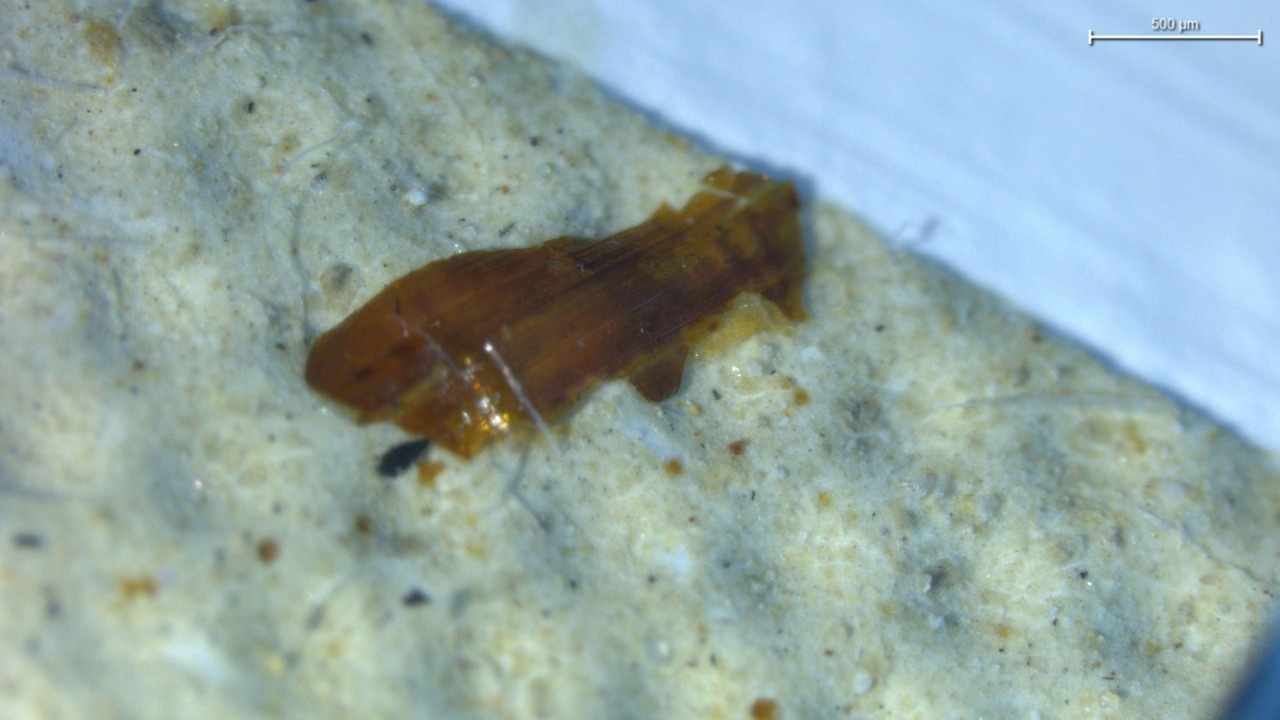microplastic_fragment: (306, 169, 806, 457)
